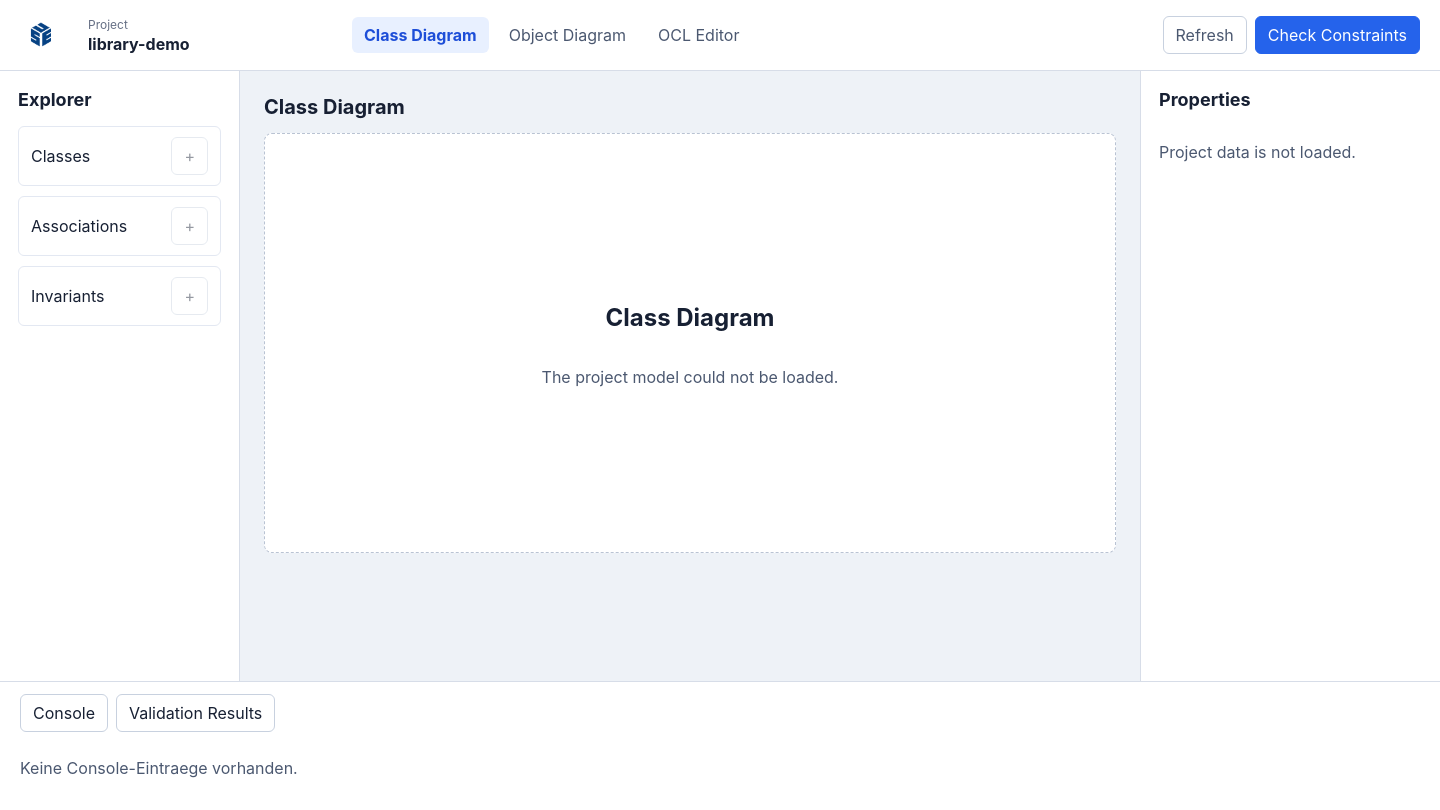
Test: App › navigates between workspace views via navigation tabs
What coordinates should you click on to do the following:
click the link "Object Diagram"
I would click on:
 (567, 35)
Its box is x1=509 y1=25 x2=626 y2=45.
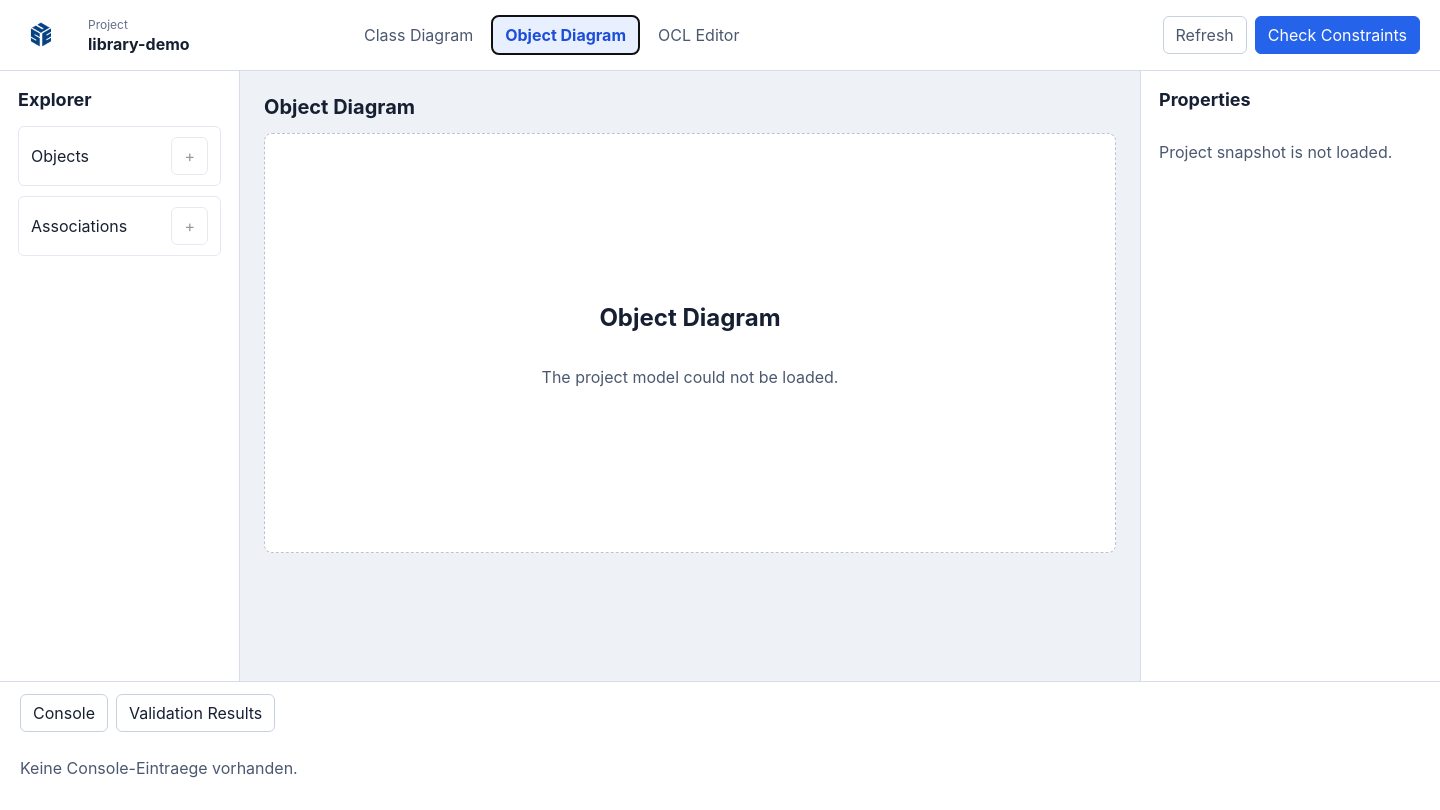
Result: the 1st heading "Object Diagram" is shown at x1=264 y1=95 x2=415 y2=119
Result: the text "Objects" is shown at x1=31 y1=146 x2=89 y2=166
